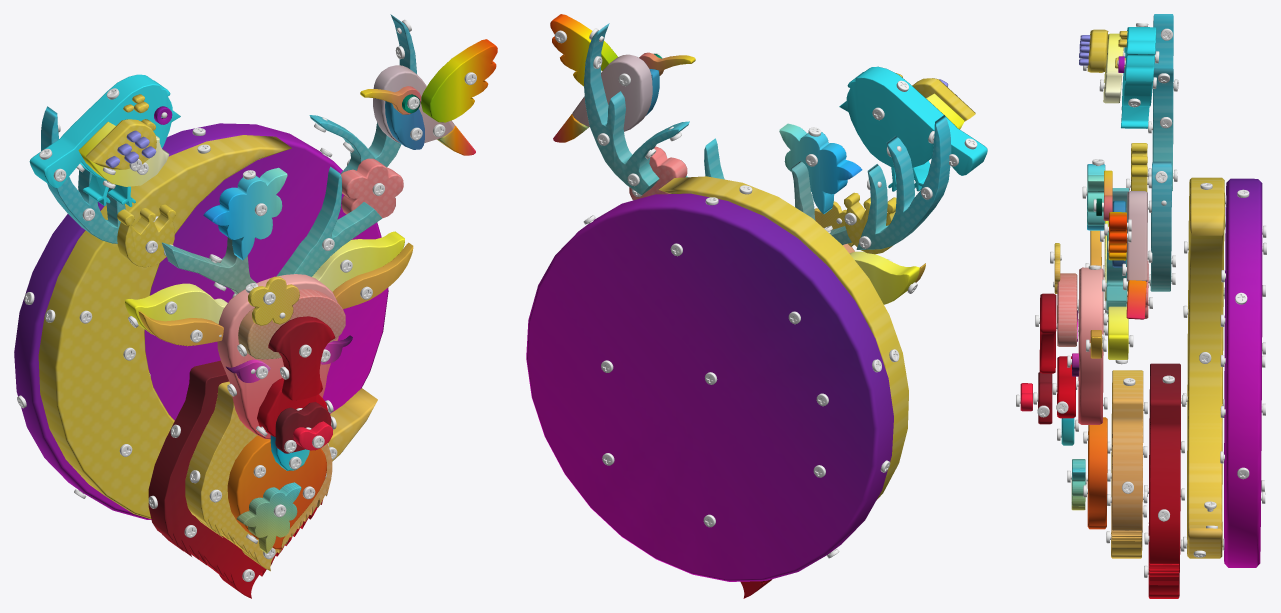
The model's file is lvl_59.fbx.
The picture shows the model from 3 angles, left to right: view 1: azimuth 30°, elevation 25°; view 2: azimuth 150°, elevation 25°; view 3: azimuth 270°, elevation 25°; orthographic projection. The views are drawn at different scales.
Visible parts, largest first — view 1: Cube_L1_1, Cube_L1, Cube_L3_7, Cube_L3_6, Cube_L4_12, Cube_L3_2, Cube_L3_5, Cube_L4_3, Cube_L4_2, Cube_L4, Cube_L2_4, Cube_L4_8 (+19 smaller); view 2: Cube_L1, Cube_L1_1, Cube_L4_12, Cube_L4_8, Cube_L4_1, Cube_L4_3, Cube_L4_10, Cube_L4, Cube_L3_3, Cube_L4_5, Cube_L4_4, Cube_L4_7 (+2 smaller); view 3: Cube_L1, Cube_L1_1, Cube_L3_7, Cube_L3_6, Cube_L3_2, Cube_L4_12, Cube_L4_8, Cube_L4_1, Cube_L3_5, Cube_L4_10, Cube_L2_3, Cube_L2_4 (+16 smaller).
Part boxes in pixels (x1,y1,x2,y2): Cube_L1_1: (38,135,377,518); Cube_L1: (14,123,388,519); Cube_L3_7: (148,360,322,598); Cube_L3_6: (185,381,332,571); Cube_L4_12: (29,74,180,206); Cube_L3_2: (217,274,338,439); Cube_L3_5: (227,435,326,549); Cube_L4_3: (203,167,287,260); Cube_L4_2: (276,166,382,276); Cube_L4: (421,39,497,122); Cube_L2_4: (268,316,335,400); Cube_L4_8: (41,106,125,243); Cube_L1: (526,193,893,581); Cube_L1_1: (659,176,908,499); Cube_L4_12: (839,66,987,191); Cube_L4_8: (856,115,951,249); Cube_L4_1: (584,23,689,195); Cube_L4_3: (779,123,862,213); Cube_L4_10: (572,54,652,131); Cube_L4: (550,14,617,86); Cube_L3_3: (849,251,919,304); Cube_L4_5: (844,192,896,254); Cube_L4_4: (790,161,851,245); Cube_L4_7: (629,146,687,200); Cube_L1: (1224,178,1262,567); Cube_L1_1: (1187,177,1224,558); Cube_L3_7: (1148,363,1180,598); Cube_L3_6: (1111,370,1143,558); Cube_L3_2: (1078,267,1103,424); Cube_L4_12: (1115,27,1156,128); Cube_L4_8: (1152,14,1173,190); Cube_L4_1: (1150,161,1171,291); Cube_L3_5: (1087,417,1107,529); Cube_L4_10: (1127,191,1147,281); Cube_L2_3: (1057,273,1077,346); Cube_L2_4: (1039,293,1056,373).
Bounding box in the file's own units: 15.18 × 17.9 × 7.9.
